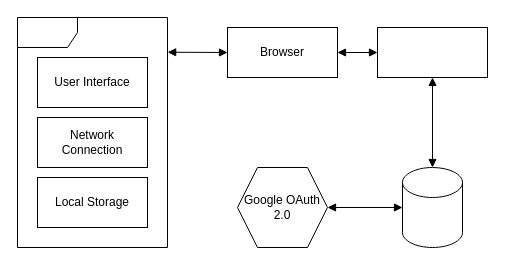
Image size: 505x265. Some labels were removed from this diagram. Each missing label, with the centre of its shape:
"HoMePIT" goes at (92,132).
"Replit Server" goes at (432,52).
"Supabase" goes at (432,207).
